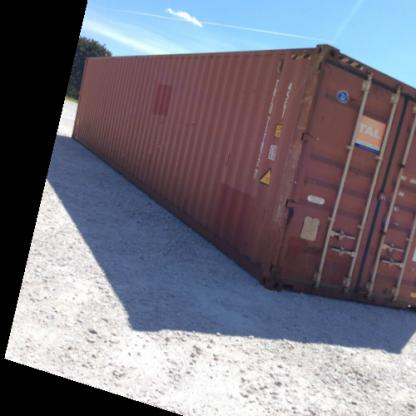Damage: (274, 148, 305, 264), (291, 54, 318, 142)
